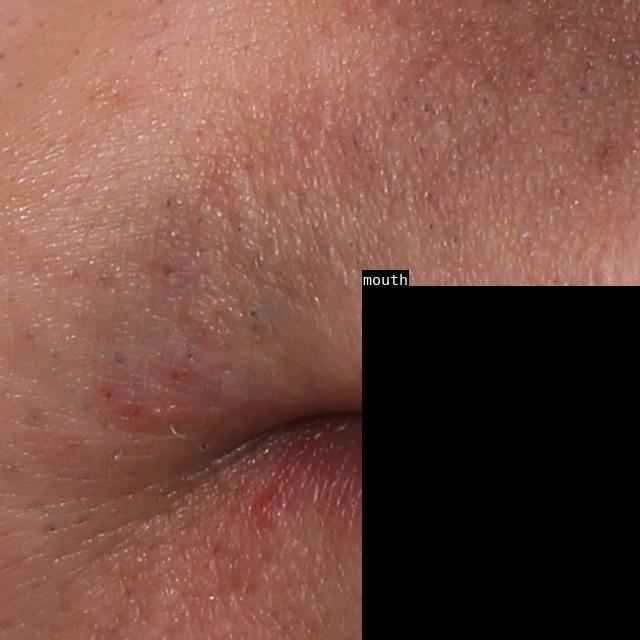papule: (246, 482, 296, 530)
